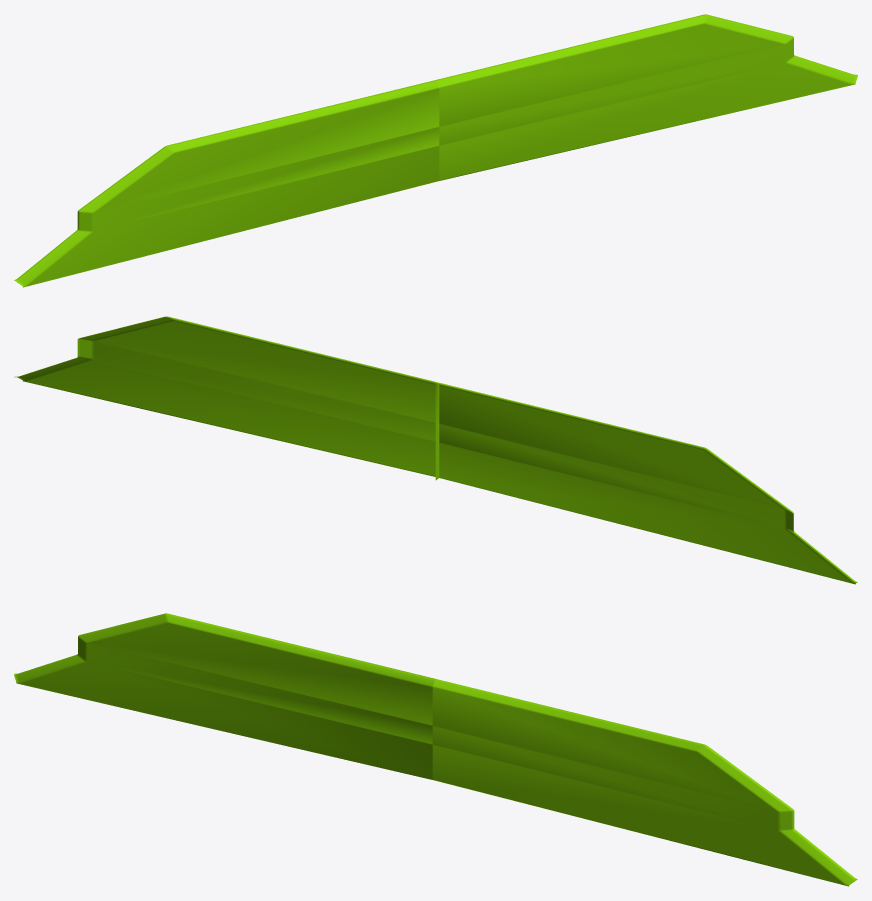
Rendered from DownWindow.fbx.
The picture shows the model from 3 angles, top to bottom: view 1: azimuth 30°, elevation 25°; view 2: azimuth 150°, elevation 25°; view 3: azimuth 330°, elevation 25°; orthographic projection.
Parts seen in each view (by area): view 1: DownWindow; view 2: DownWindow; view 3: DownWindow.
Part boxes in pixels (x1,y1,x2,y2): DownWindow: (14,14,857,287); DownWindow: (14,316,857,584); DownWindow: (14,613,857,886).
Bounding box in the file's own units: 8049 × 941 × 64.37.
